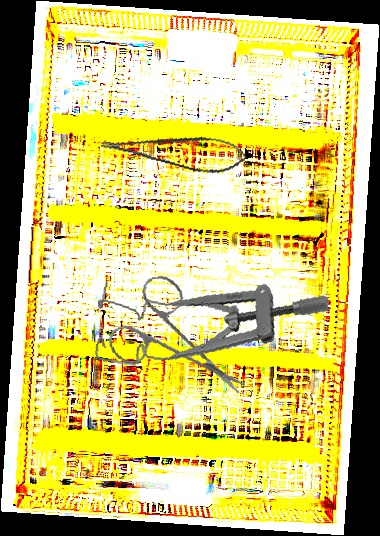Iris Scissors: (99, 265, 247, 413)
Micro Scissor: (99, 114, 249, 182)
Speculum: (90, 261, 330, 393)
